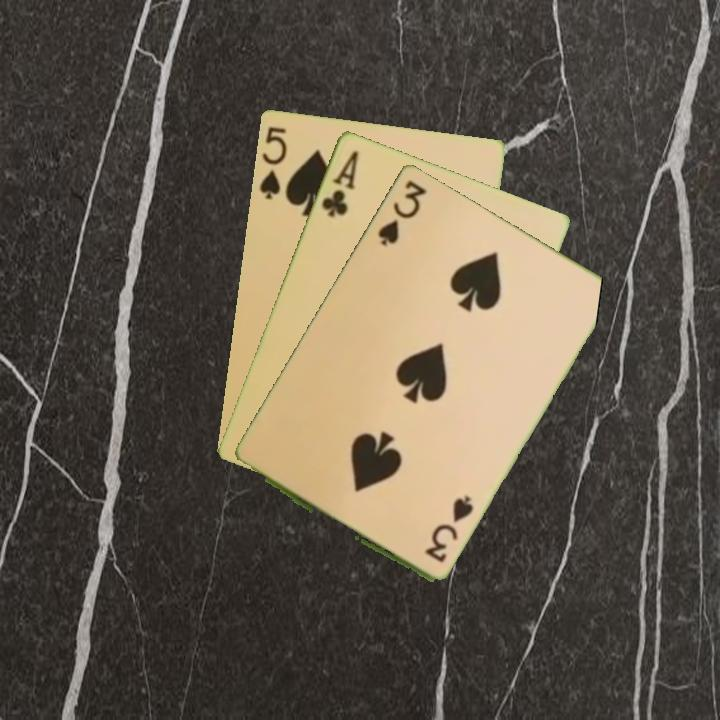3s: (374, 176, 430, 248), (421, 493, 476, 565)
5s: (255, 122, 290, 202)
Ac: (317, 146, 362, 220)
